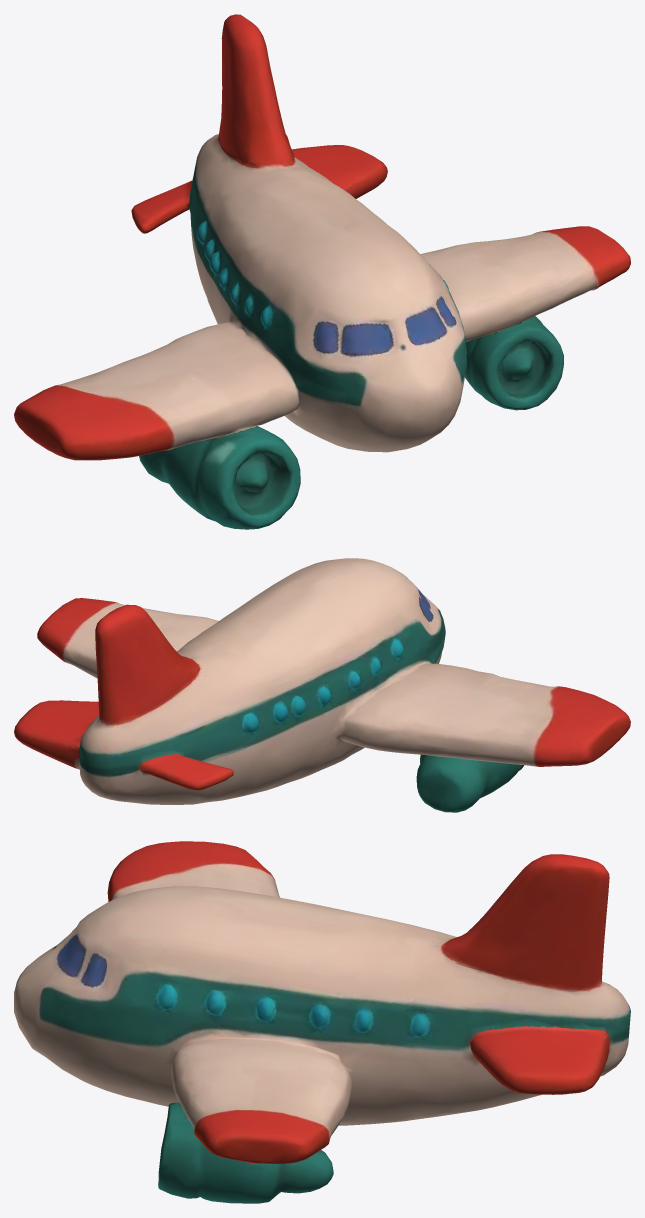
The picture shows the model from 3 angles, top to bottom: view 1: azimuth 30°, elevation 25°; view 2: azimuth 150°, elevation 25°; view 3: azimuth 270°, elevation 25°; orthographic projection. The views are drawn at different scales.
Parts seen in each view (by area): view 1: geometry_0; view 2: geometry_0; view 3: geometry_0.
Part boxes in pixels (x1=…): geometry_0: x1=14, y1=14, x2=630, y2=529; geometry_0: x1=14, y1=558, x2=630, y2=812; geometry_0: x1=14, y1=841, x2=630, y2=1203.
Bounding box in the file's own units: 0.9501 × 0.4443 × 0.797.
1 material, 1 textured.
